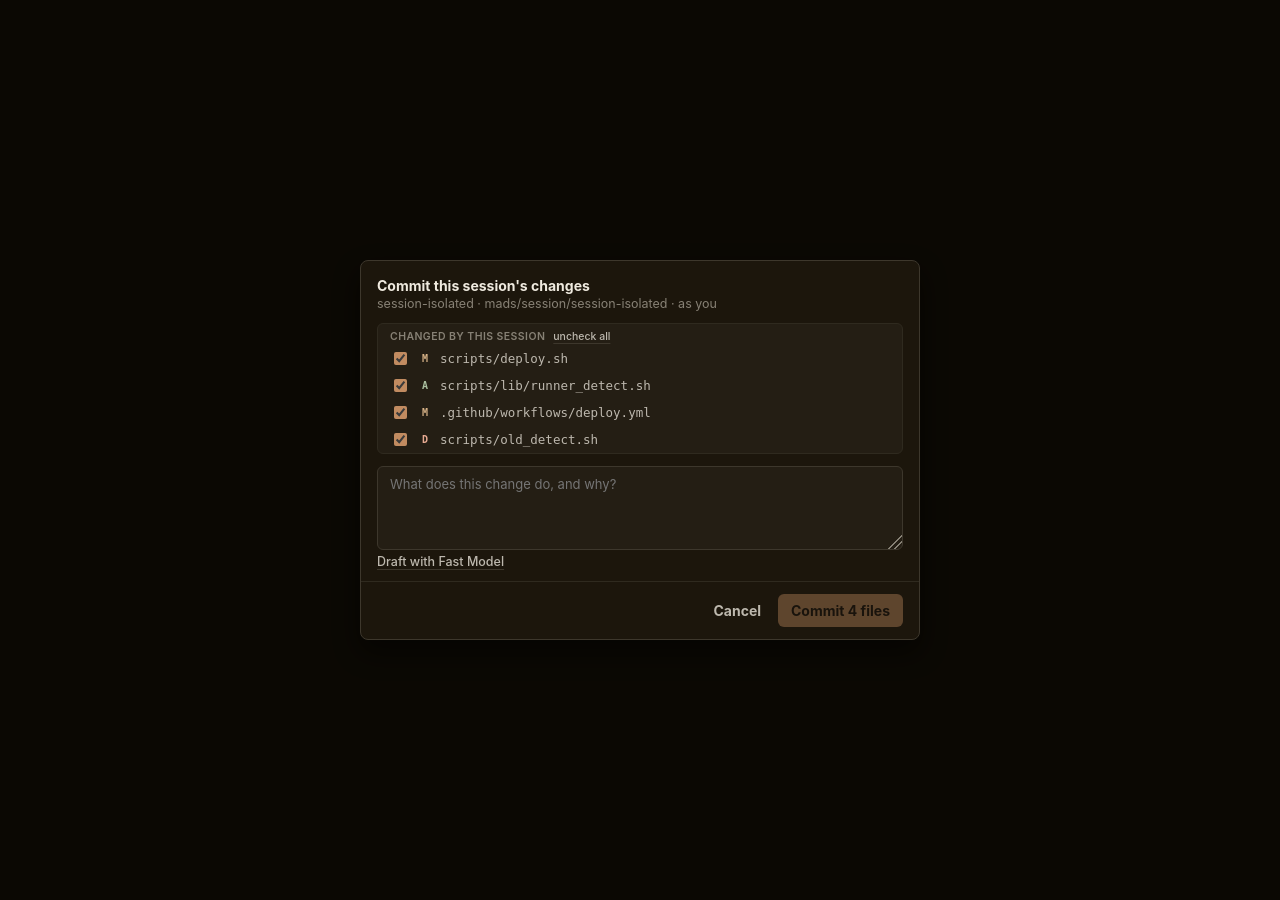
Scenario: CommitDialog — one repo (D2, mockup §2) › needs a message before it commits
Expected: the button "scripts/deploy.sh" is shown, 440,351 -> 890,366
Expected: the button "Commit 4 files" is disabled, 778,594 -> 903,627
In the text box named "Commit message": point(640, 508) 377,466 -> 903,550, type "Fix deploy"
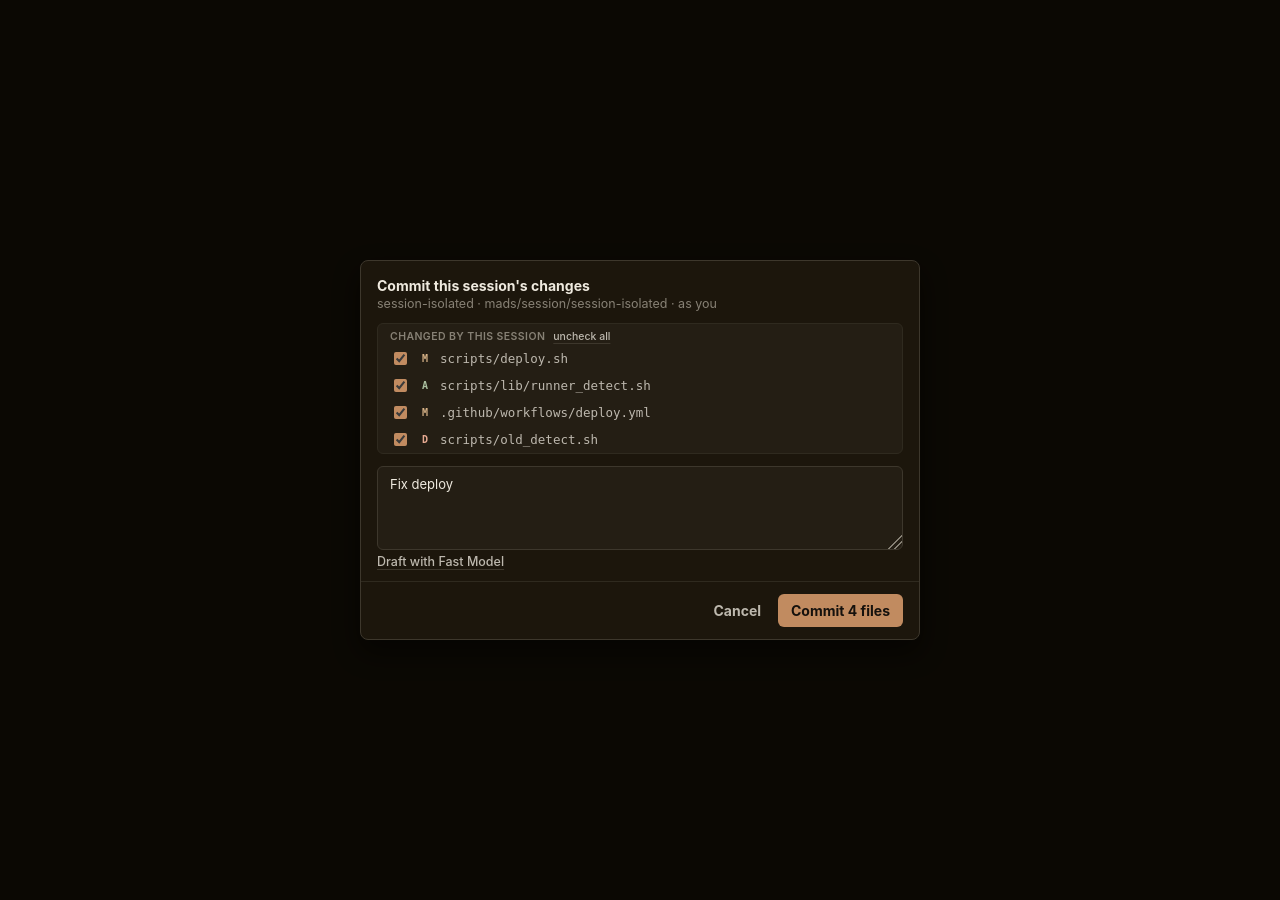
Expected: the button "Commit 4 files" is enabled, 778,594 -> 903,627
